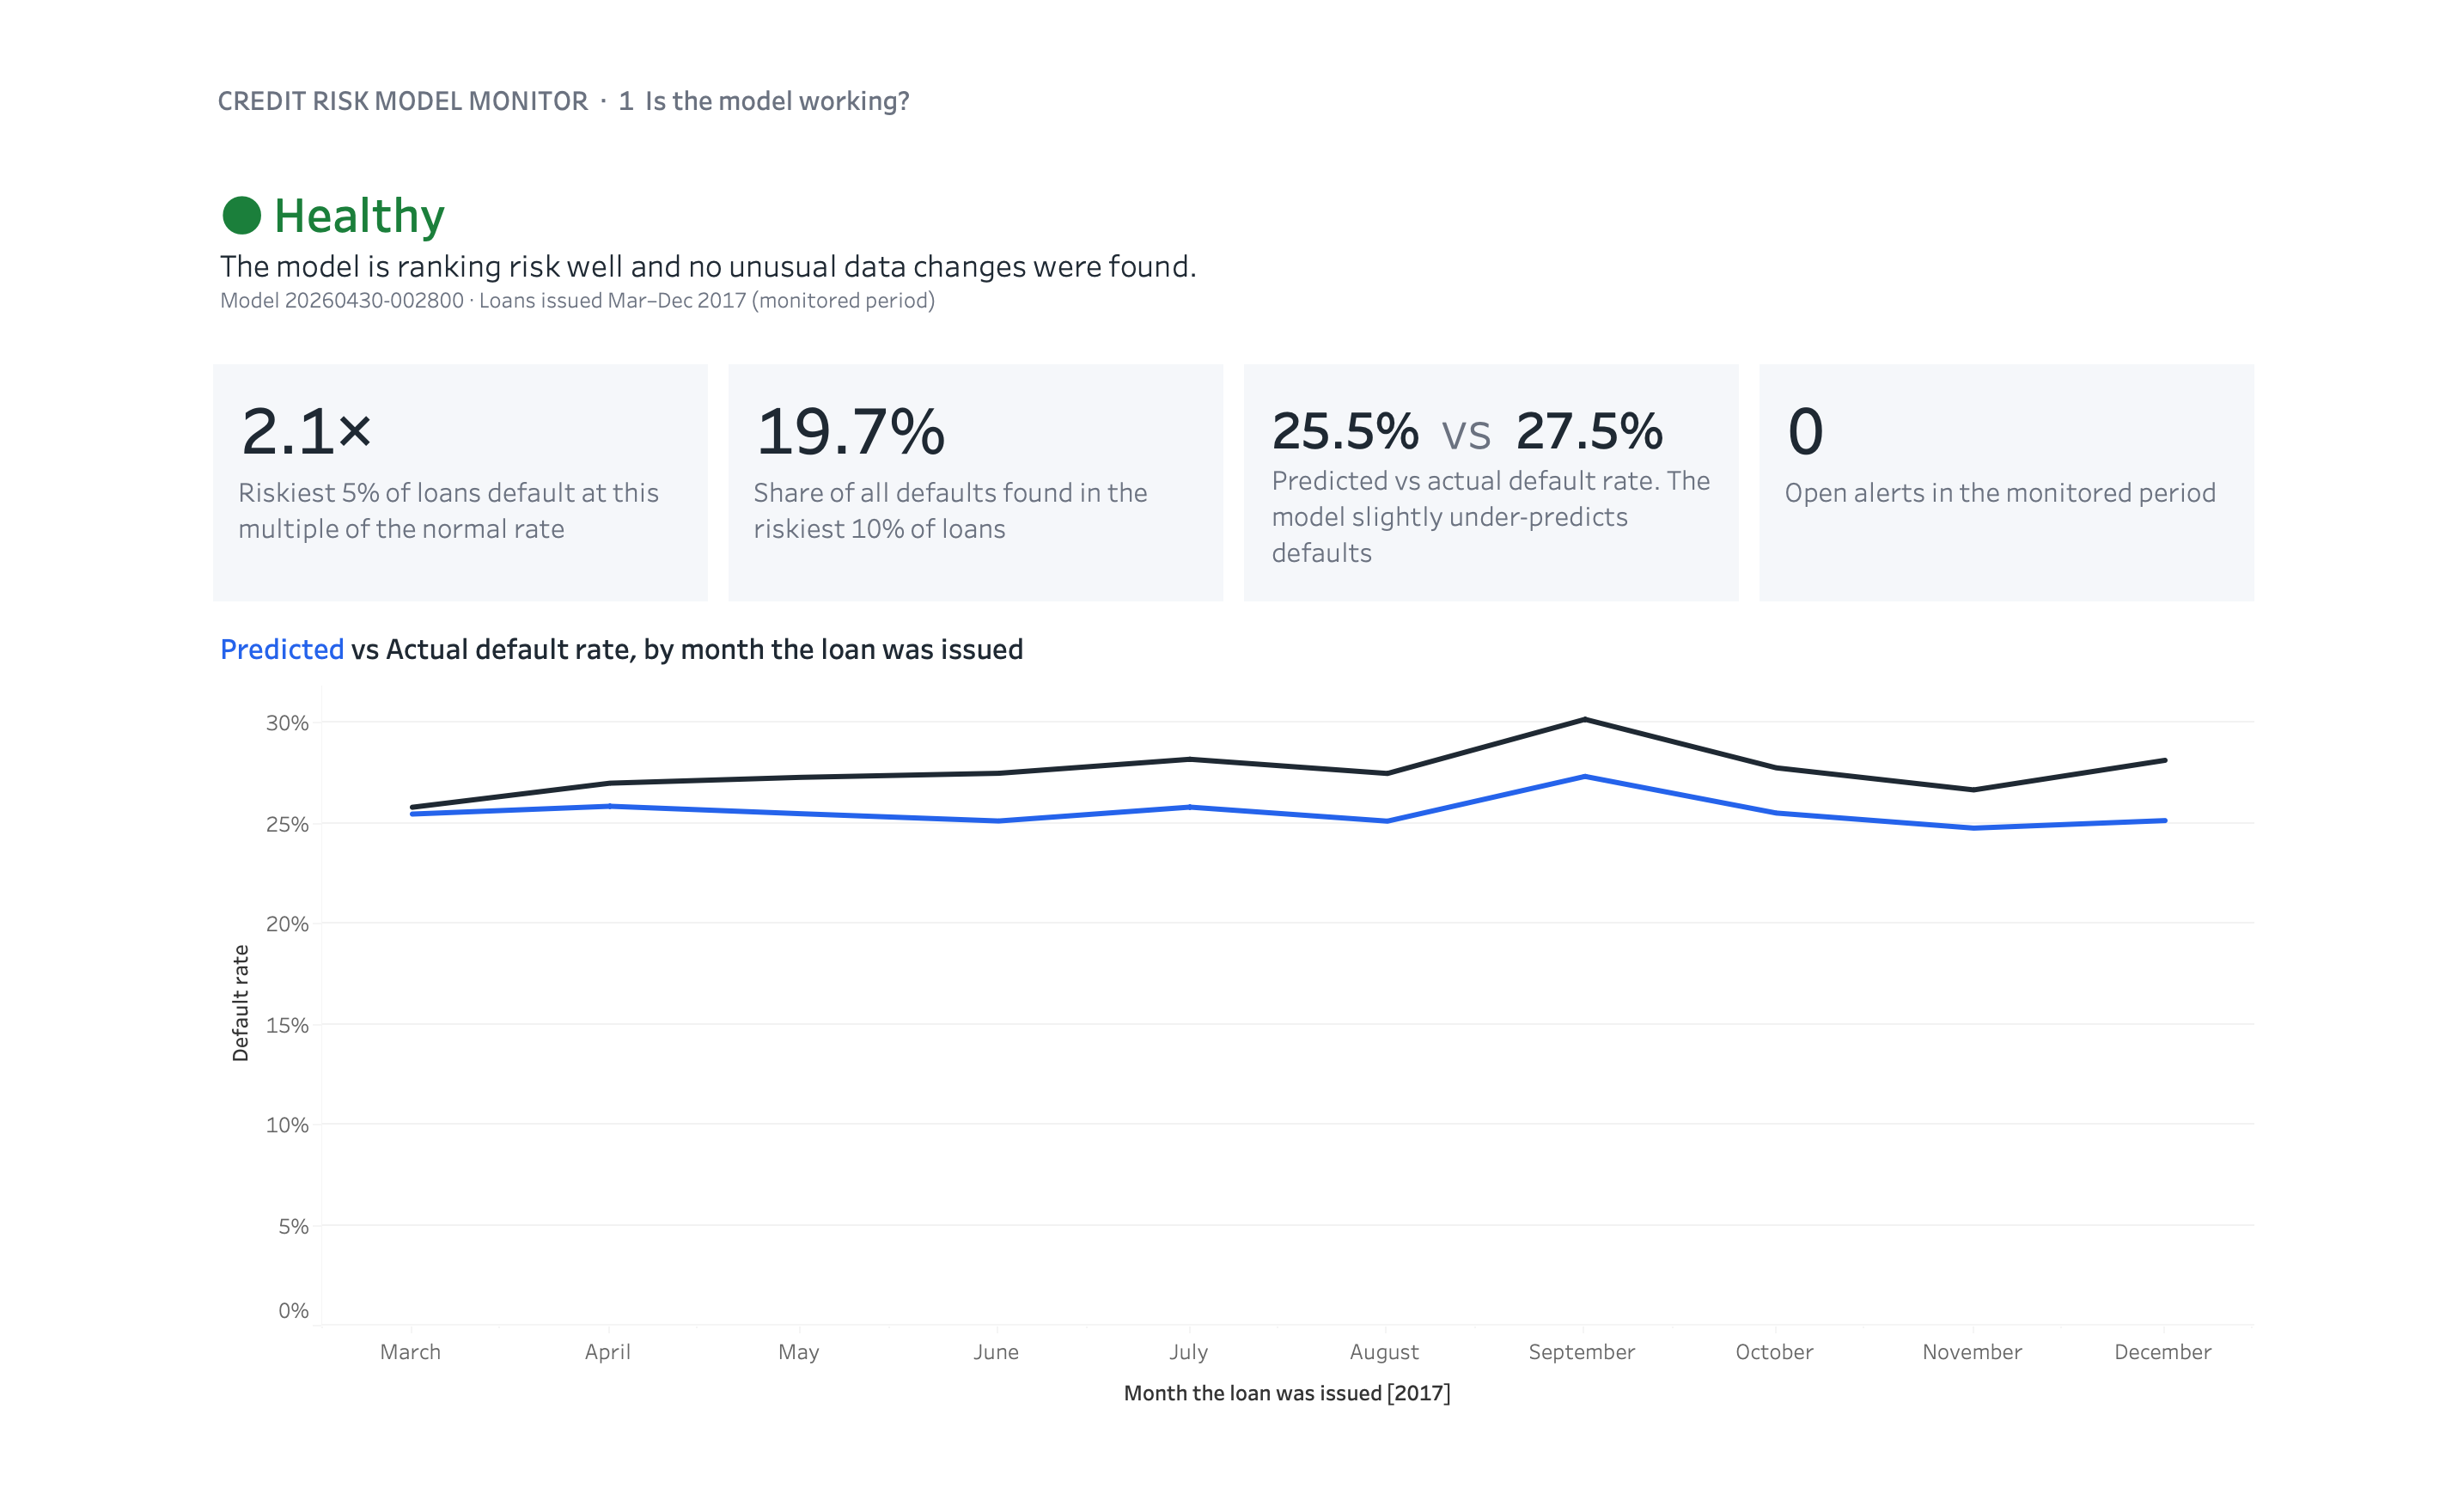

Layout of this report page (visuals, bound fields, positions):
{"tool":"tableau","page":{"name":"1 - Is the model working","canvas":[1200,800],"ordinal":0},"visuals":[{"type":"text","box":[0,0,1200,52]},{"type":"worksheet","title":"Status","mark":"Text","box":[0,52,1200,122]},{"type":"worksheet","title":"KPI - Calibration","mark":"Text","box":[600,174,300,150]},{"type":"worksheet","title":"KPI - Lift","mark":"Text","box":[18,192,264,52]},{"type":"worksheet","title":"KPI - Capture","mark":"Text","box":[318,192,264,52]},{"type":"worksheet","title":"KPI - Alerts","mark":"Text","box":[918,192,264,52]},{"type":"text","box":[18,244,264,42]},{"type":"text","box":[318,244,264,42]},{"type":"text","box":[918,244,264,21]},{"type":"worksheet","title":"Trend","mark":"Line","cols":["month_start"],"box":[0,324,1200,476]}]}

Visuals, with their boxes on the page's 1200x800 design canvas (x1, y1, x2, y2). These are canvas units, not pixel positions in the 2464x1488 screenshot, which may show the page scaled, cropped or inside an application window:
text: {"x1": 0, "y1": 0, "x2": 1200, "y2": 52}
"Status" worksheet (Text marks): {"x1": 0, "y1": 52, "x2": 1200, "y2": 174}
"KPI - Calibration" worksheet (Text marks): {"x1": 600, "y1": 174, "x2": 900, "y2": 324}
"KPI - Lift" worksheet (Text marks): {"x1": 18, "y1": 192, "x2": 282, "y2": 244}
"KPI - Capture" worksheet (Text marks): {"x1": 318, "y1": 192, "x2": 582, "y2": 244}
"KPI - Alerts" worksheet (Text marks): {"x1": 918, "y1": 192, "x2": 1182, "y2": 244}
text: {"x1": 18, "y1": 244, "x2": 282, "y2": 286}
text: {"x1": 318, "y1": 244, "x2": 582, "y2": 286}
text: {"x1": 918, "y1": 244, "x2": 1182, "y2": 265}
"Trend" worksheet (Line marks): {"x1": 0, "y1": 324, "x2": 1200, "y2": 800}
